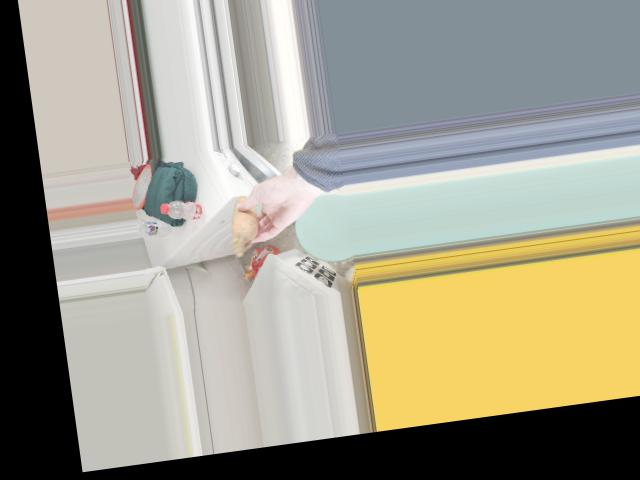sweet_potato: (227, 198, 258, 245)
